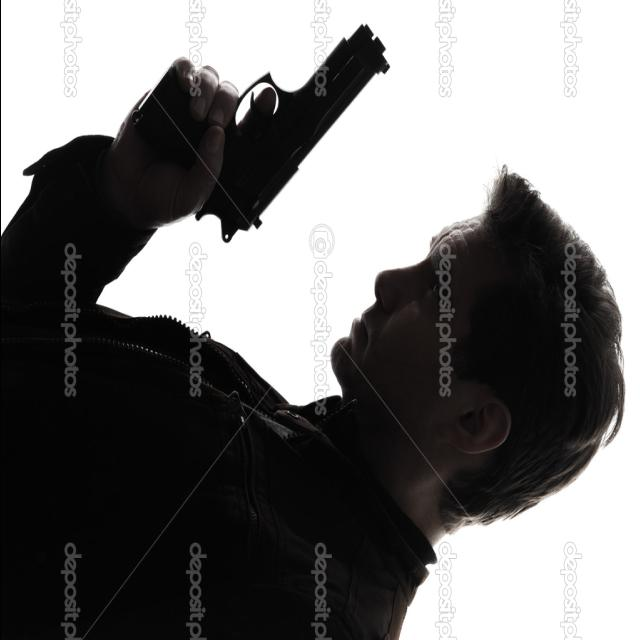handgun: (129, 17, 390, 246)
